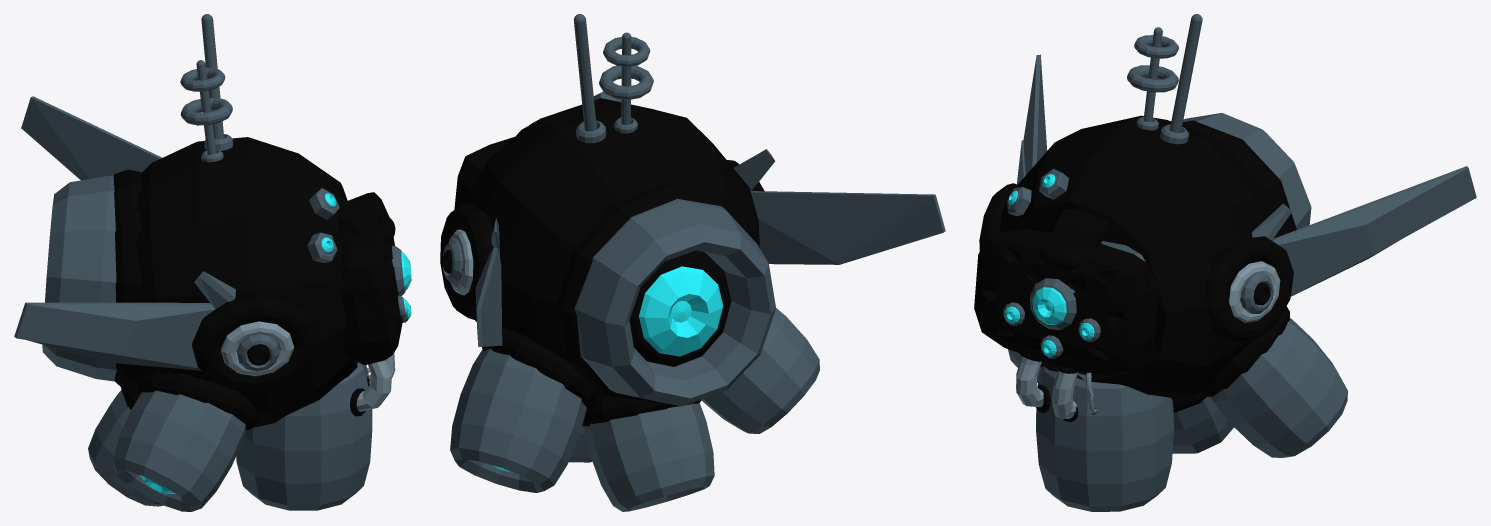
File: botDrone.gltf
The picture shows the model from 3 angles, left to right: view 1: azimuth 30°, elevation 25°; view 2: azimuth 150°, elevation 25°; view 3: azimuth 270°, elevation 25°; orthographic projection. The views are drawn at different scales.
Visible parts, largest first — view 1: group579868033, group950745974, group935379014, group340555124, group1900377273, group1629524082, group1880070904, group1574620923, group855398246, group1622754454, group1435881417, group1512876906 (+8 smaller); view 2: group579868033, group1900377273, group436029164, group340555124, group1512876906, group1384654718, group935379014, group855398246, group1435881417, group2073936651, group268984946, group1574620923 (+6 smaller); view 3: group579868033, group1629524082, group950745974, group436029164, group1574620923, group2073936651, group1900377273, group1435881417, group1512876906, group855398246, group1273343276, group606704065 (+9 smaller).
Boxes of the visible parts, x1,y1,x2,y2 form: group579868033: (133,137,357,427); group950745974: (236,362,372,510); group935379014: (113,390,245,511); group340555124: (14,302,214,370); group1900377273: (42,175,116,381); group1629524082: (135,192,402,365); group1880070904: (192,294,318,390); group1574620923: (21,96,162,180); group855398246: (113,169,141,394); group1622754454: (138,372,259,430); group1435881417: (180,60,232,162); group1512876906: (88,390,163,506); group579868033: (461,98,759,397); group1900377273: (557,198,775,406); group436029164: (450,348,586,492); group340555124: (750,191,945,264); group1512876906: (583,403,714,511); group1384654718: (629,250,731,366); group935379014: (701,308,819,433); group855398246: (555,183,754,401); group1435881417: (599,32,653,133); group2073936651: (440,203,500,319); group268984946: (482,328,597,408); group1574620923: (475,247,502,346); group579868033: (999,115,1280,399); group1629524082: (974,209,1158,375); group950745974: (1036,366,1173,511); group436029164: (1210,318,1347,457); group1574620923: (1272,166,1476,296); group2073936651: (1205,236,1293,342); group1900377273: (1183,113,1311,229); group1435881417: (1127,27,1178,130); group1512876906: (1172,396,1233,453); group855398246: (1182,120,1296,235); group1273343276: (1029,278,1076,330); group606704065: (1160,14,1202,144).
Size of the model in its own units: 2.68 by 2.83 by 2.77.
